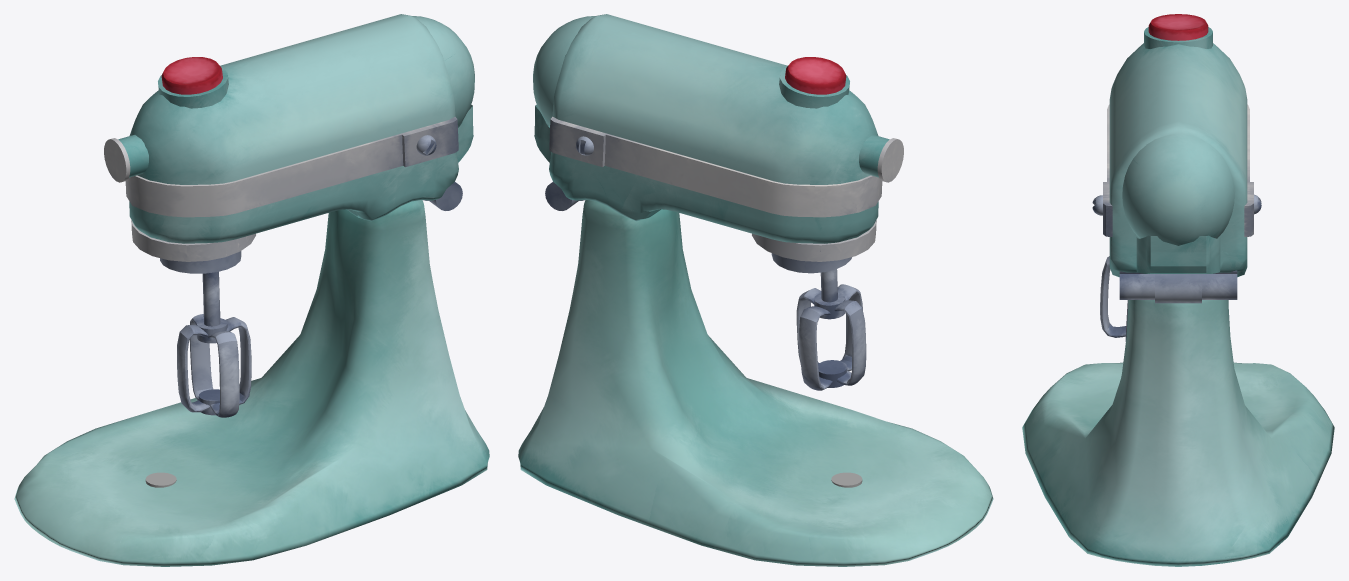
The model's file is Mixer_Model.fbx.
3 renders of one model, left to right at view 1: azimuth 30°, elevation 25°; view 2: azimuth 150°, elevation 25°; view 3: azimuth 270°, elevation 25°, orthographic. The views are drawn at different scales.
Parts seen in each view (by area): view 1: bottom, polySurface2, MIXY, BUTTON; view 2: bottom, polySurface2, MIXY, BUTTON; view 3: bottom, polySurface2, BUTTON, MIXY.
Boxes of the visible parts, x1,y1,x2,y2 form: bottom: (14, 200, 489, 566); polySurface2: (104, 14, 474, 261); MIXY: (160, 251, 251, 417); BUTTON: (161, 57, 222, 94); bottom: (518, 200, 993, 566); polySurface2: (533, 14, 903, 261); MIXY: (771, 253, 866, 390); BUTTON: (785, 57, 846, 94); bottom: (1022, 300, 1334, 566); polySurface2: (1092, 27, 1261, 303); BUTTON: (1148, 14, 1208, 40); MIXY: (1100, 256, 1128, 341).
Size of the model in its own units: 31.81 by 30.65 by 20.66.
Materials: 6 (5 with a texture image).
